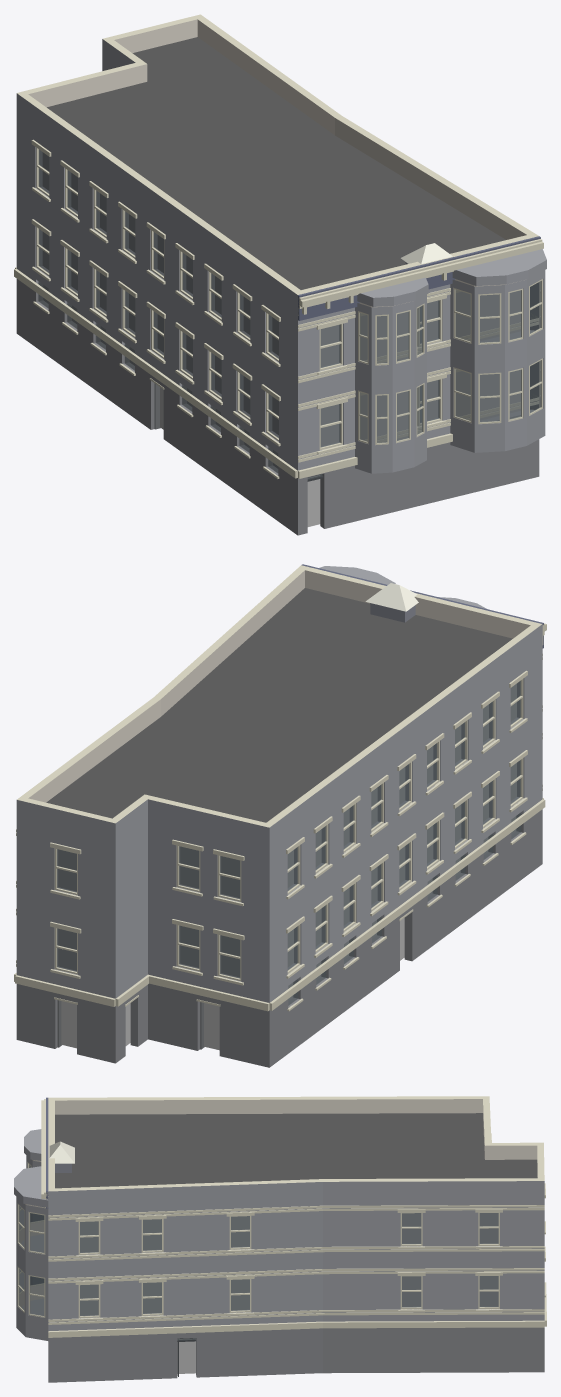
File: exterior.glb
3 renders of one model, top to bottom at view 1: azimuth 30°, elevation 25°; view 2: azimuth 150°, elevation 25°; view 3: azimuth 270°, elevation 25°, orthographic. The views are drawn at different scales.
Parts seen in each view (by area): view 1: shell, roof, bay-windows, shadow-proxy, bay-glazing, trim, glazing, frames, relief-4, fascia; view 2: shell, roof, glazing, trim, shadow-proxy, frames, relief-4, bay-windows, storefront; view 3: shell, roof, trim, shadow-proxy, relief-5, glazing, bay-windows, relief-6, frames, bay-glazing, relief-4.
Part boxes in pixels (x1,y1,x2,y2): shell: [16, 14, 539, 535]; roof: [47, 37, 505, 289]; bay-windows: [355, 249, 546, 473]; shadow-proxy: [43, 153, 520, 526]; bay-glazing: [358, 279, 542, 444]; trim: [14, 139, 543, 478]; glazing: [38, 150, 439, 478]; frames: [36, 148, 442, 450]; relief-4: [298, 243, 538, 462]; fascia: [298, 236, 540, 320]; shell: [16, 565, 542, 1067]; roof: [46, 588, 512, 822]; glazing: [57, 681, 521, 1005]; trim: [14, 623, 546, 1011]; shadow-proxy: [58, 684, 516, 1050]; frames: [54, 679, 523, 981]; relief-4: [365, 583, 542, 790]; bay-windows: [319, 566, 486, 608]; storefront: [54, 909, 413, 1049]; shell: [48, 1096, 544, 1382]; roof: [55, 1113, 537, 1188]; trim: [41, 1099, 546, 1337]; shadow-proxy: [80, 1213, 498, 1373]; relief-5: [48, 1205, 322, 1324]; glazing: [80, 1213, 498, 1340]; bay-windows: [14, 1129, 48, 1340]; relief-6: [323, 1205, 544, 1315]; frames: [78, 1212, 499, 1318]; bay-glazing: [17, 1162, 45, 1317]; relief-4: [49, 1141, 74, 1172].
Size of the model in its own units: 11.57 by 11.1 by 26.77.
